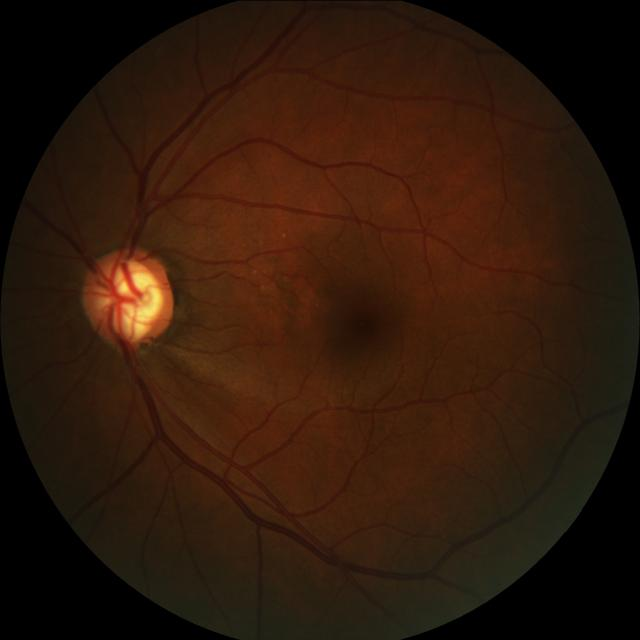OC: (97, 256, 163, 340)
OD: (82, 245, 172, 350)
